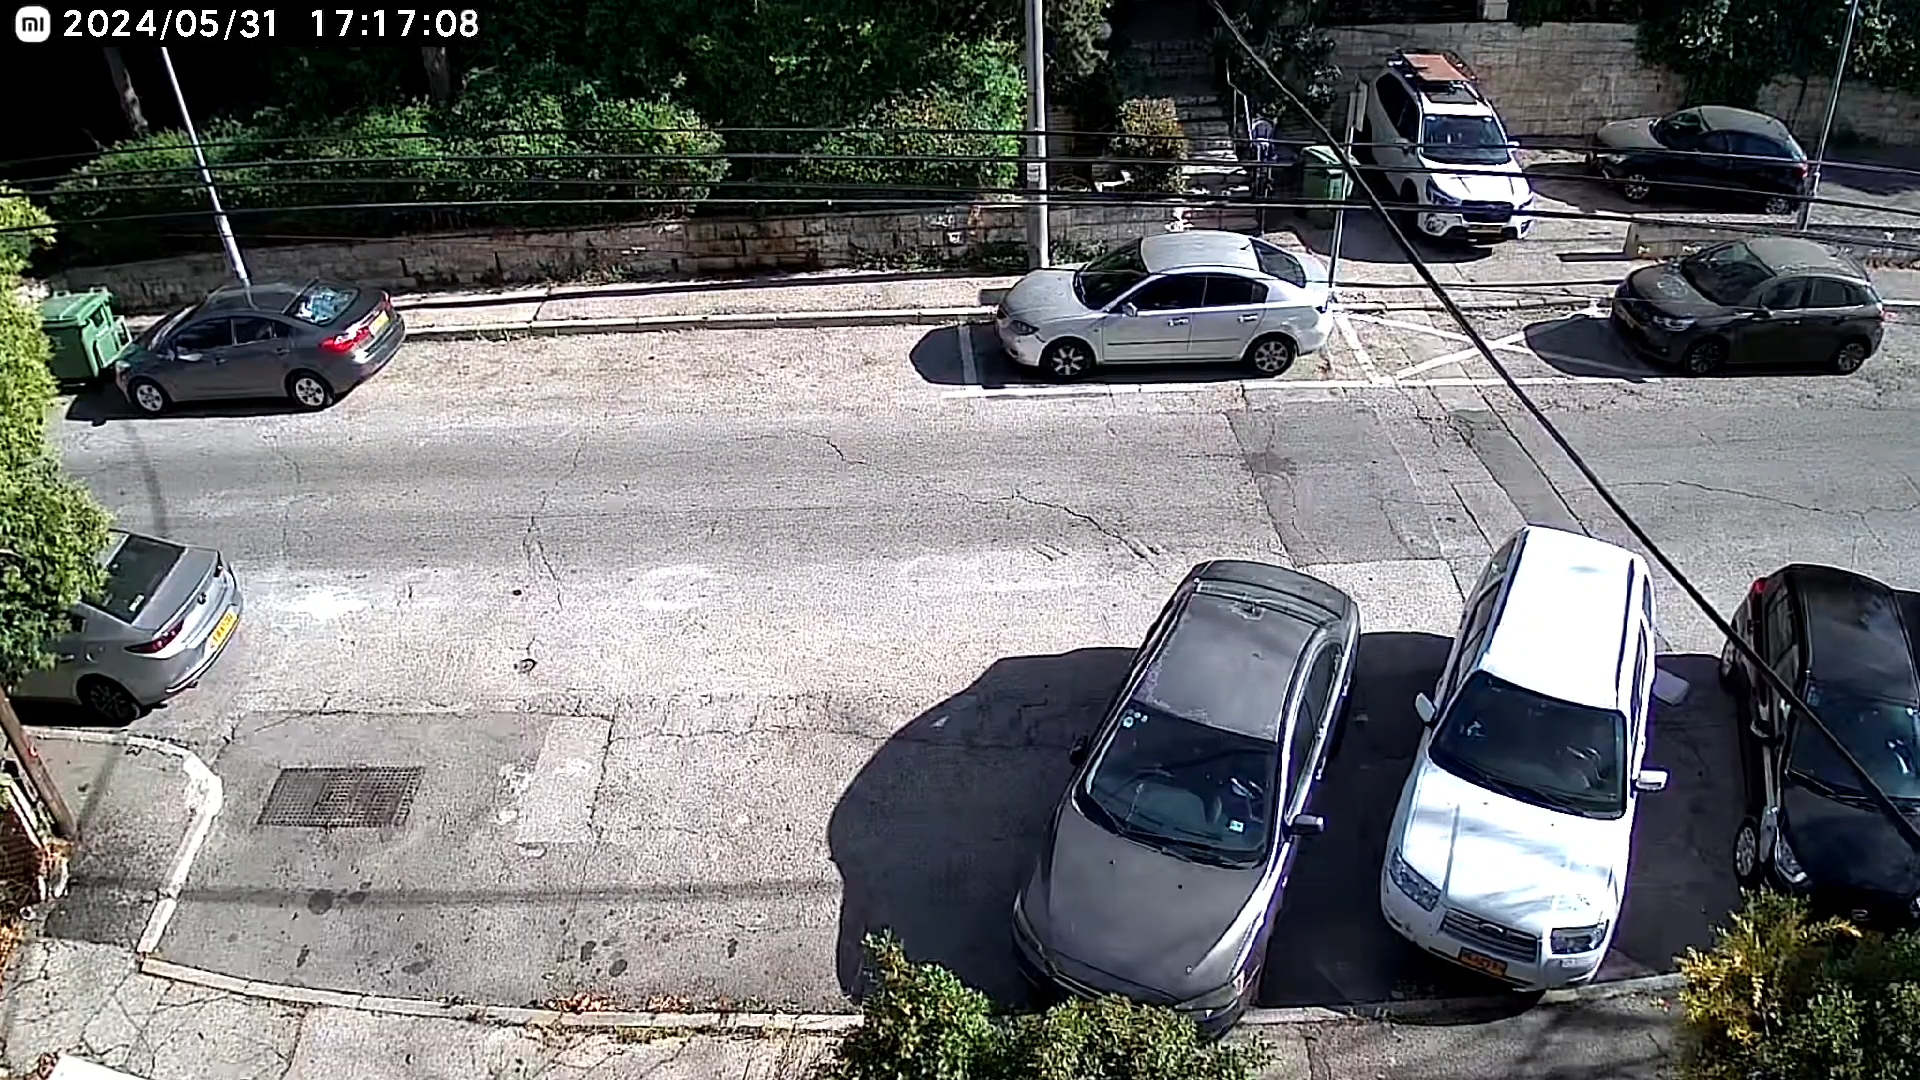moving_car: (477, 476, 778, 625)
